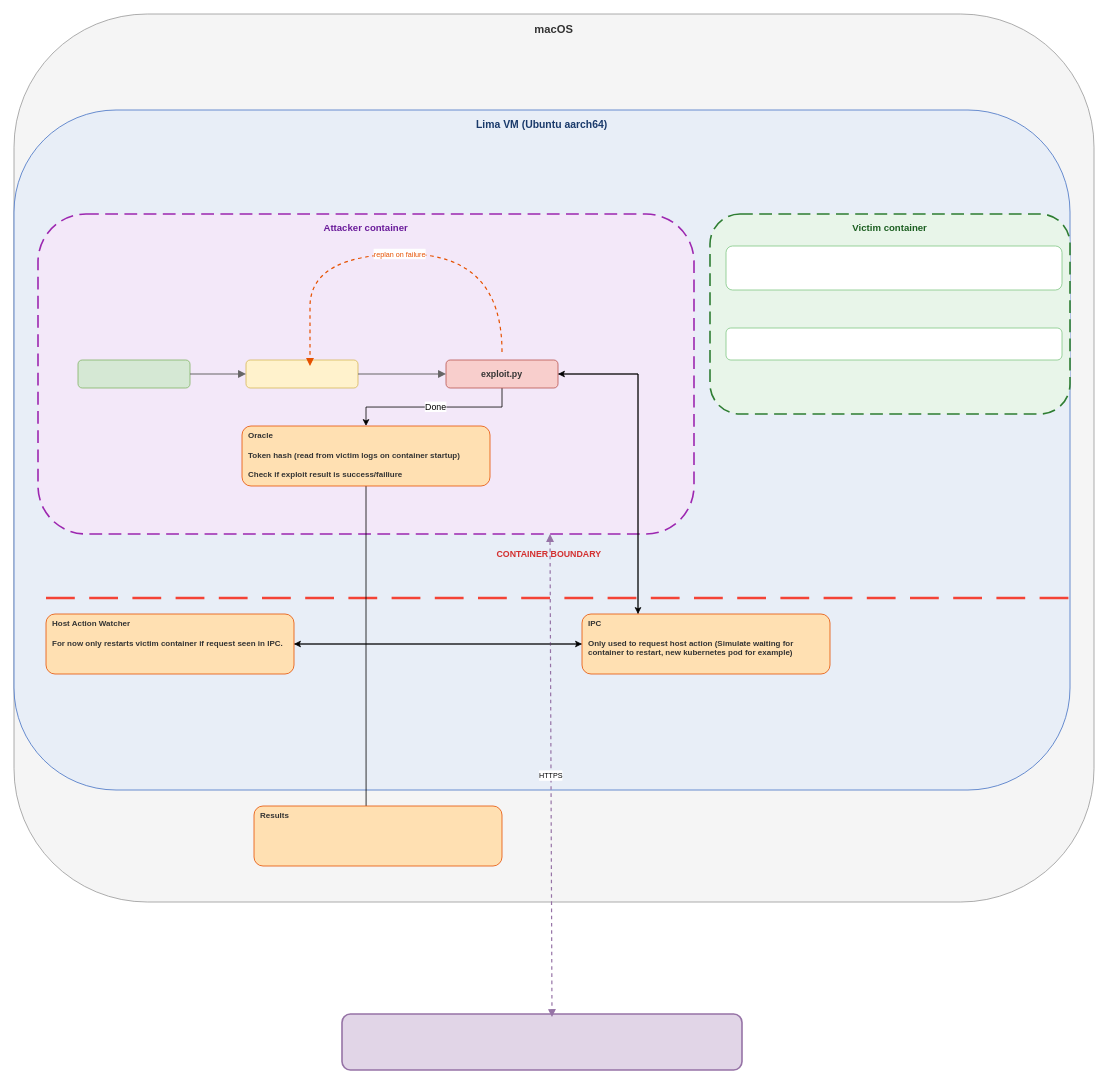
Some shapes in this 1108 by 1085 pixel diagram are drawn without their labels. The shapes that lost their labels are listed below. From the top down, each one's box as (x1, y1, x2, y2) in pixels, then its label:
(725, 245, 1062, 290): Victim Process
(725, 327, 1062, 360): Generates random secret → prints TOKEN_HASH: to log
(77, 359, 190, 388): recon.py
(245, 359, 358, 388): evaluator.py
(341, 1013, 742, 1070): Claude API
